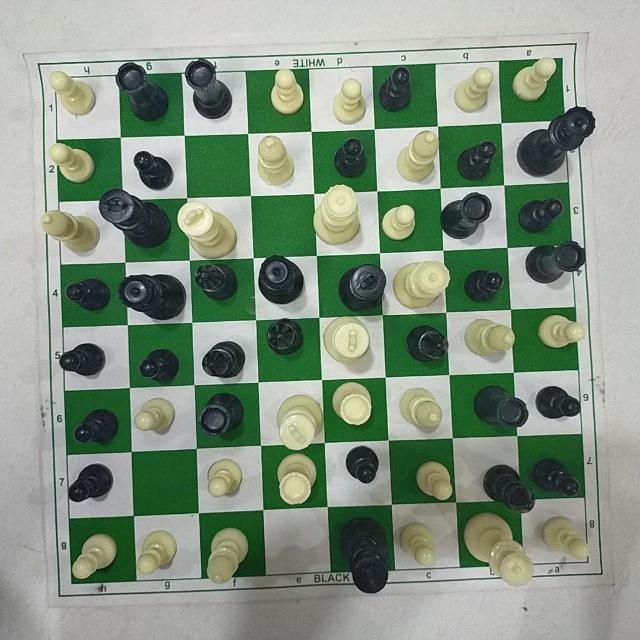black-bishop: (480, 463, 536, 514), (199, 339, 247, 380), (192, 262, 239, 303), (404, 323, 450, 363), (265, 316, 305, 356)
black-king: (97, 187, 172, 251), (338, 514, 390, 595), (336, 262, 388, 314)
black-pawn: (530, 456, 582, 500), (65, 462, 114, 504), (71, 407, 121, 446), (517, 197, 567, 236), (455, 139, 499, 183), (132, 148, 176, 192), (57, 340, 107, 378), (377, 63, 413, 115), (63, 277, 113, 313), (533, 384, 583, 420), (136, 347, 182, 385), (462, 268, 506, 306), (331, 136, 368, 180), (344, 444, 380, 486)
black-queen: (514, 104, 598, 179), (117, 272, 188, 322), (256, 254, 305, 306)
black-rook: (113, 60, 170, 124), (183, 56, 235, 121), (522, 239, 588, 285), (438, 189, 493, 240), (471, 383, 530, 430), (196, 391, 245, 439)
white-bishop: (38, 207, 101, 256), (204, 524, 252, 585), (393, 128, 441, 184), (461, 315, 517, 358), (253, 134, 296, 188), (397, 386, 445, 430)
white-king: (175, 199, 239, 260), (274, 393, 325, 451), (321, 315, 371, 365)
white-pawn: (69, 531, 121, 582), (47, 68, 98, 118), (540, 513, 592, 562), (509, 54, 559, 104), (133, 526, 179, 578), (47, 141, 98, 187), (451, 65, 495, 115), (267, 66, 306, 118), (328, 75, 367, 126), (535, 313, 587, 351), (132, 394, 178, 436), (397, 520, 437, 568), (412, 459, 455, 503), (204, 455, 245, 500), (380, 202, 418, 244)
white-queen: (461, 509, 536, 588), (310, 182, 361, 247), (390, 258, 451, 310)
white-rook: (275, 452, 319, 508), (329, 379, 374, 428)
